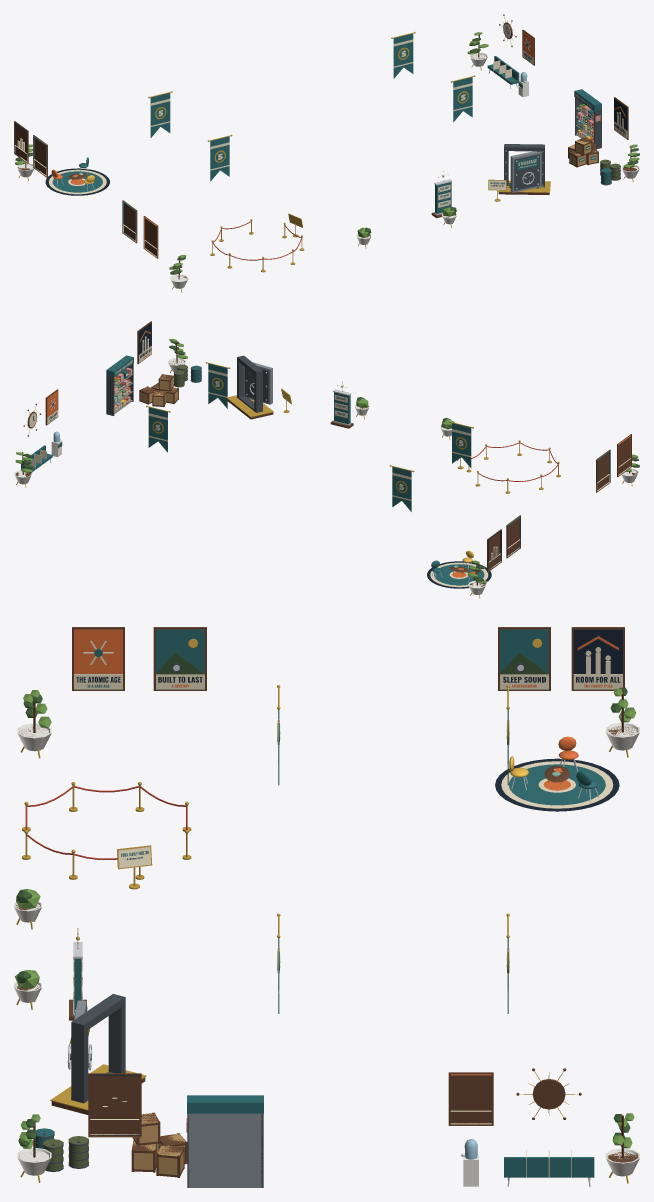
Rendered from Lobby_ShowroomFit.fbx.
3 views of the same model, one above another, from view 1: azimuth 30°, elevation 25°; view 2: azimuth 150°, elevation 25°; view 3: azimuth 270°, elevation 25° (orthographic). The views are drawn at different scales.
Parts seen in each view (by area): view 1: Decor2, Decor; view 2: Decor2, Decor; view 3: Decor2, Decor.
Part boxes in pixels (x1,y1,x2,y2): Decor2: (391, 14, 639, 201); Decor: (14, 91, 491, 292); Decor2: (14, 321, 291, 487); Decor: (289, 381, 639, 598); Decor2: (17, 913, 639, 1187); Decor: (14, 627, 639, 1020).
Bounding box in the file's own units: 129 × 20.97 × 76.4.
